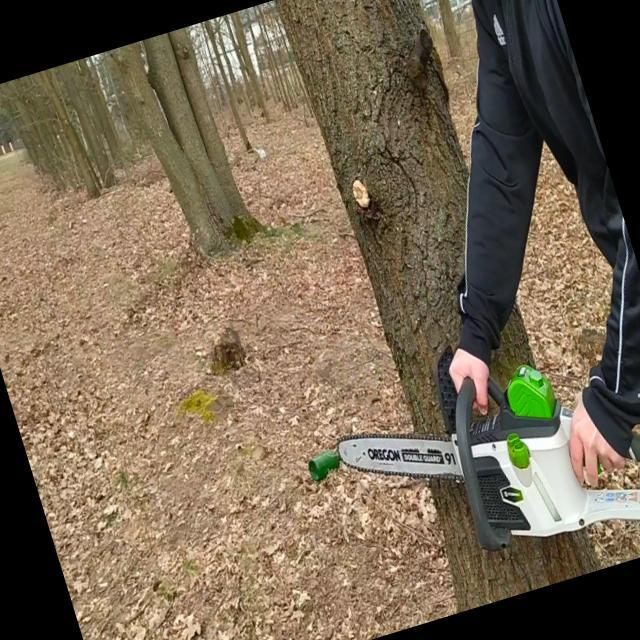Chainsaw: (322, 326, 640, 617)
